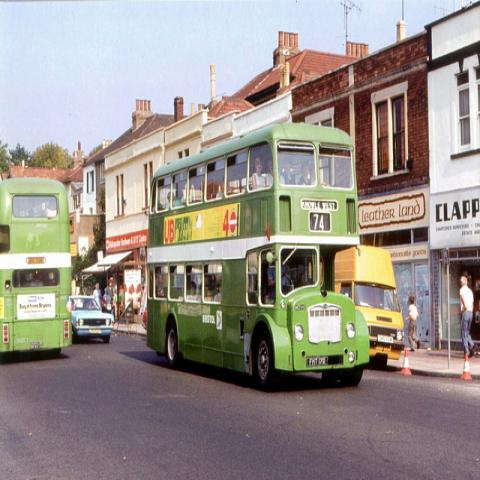bus: (147, 123, 367, 387), (1, 178, 73, 355)
car: (70, 294, 115, 344)
